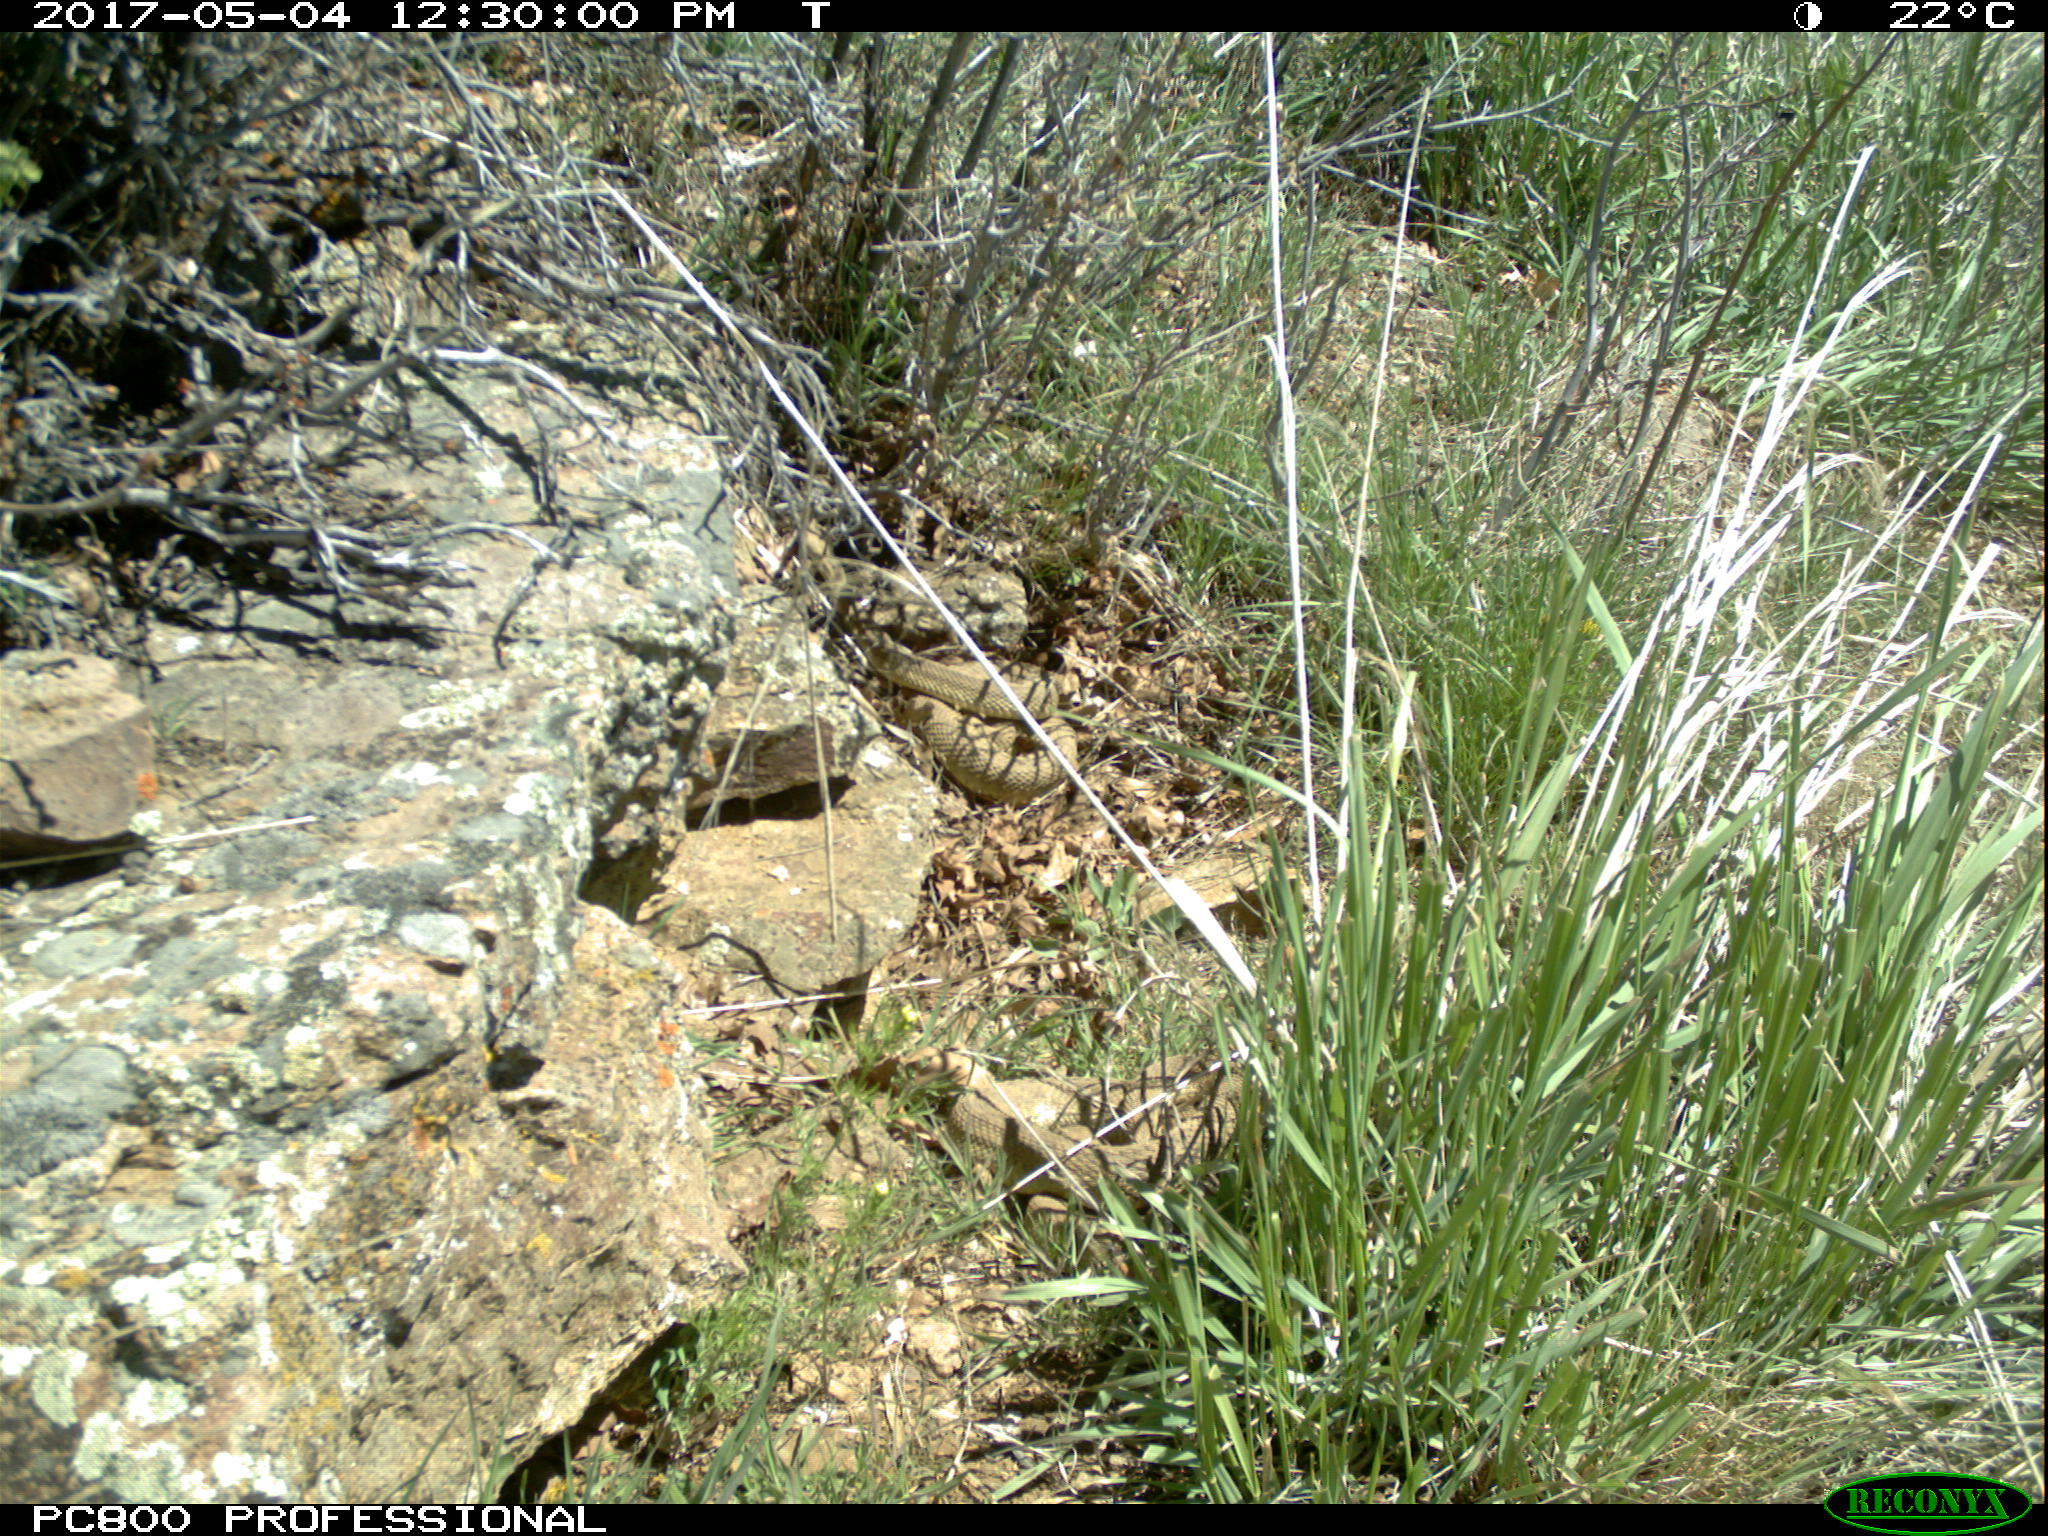snake: (843, 597, 1092, 803), (934, 1066, 1247, 1187)
